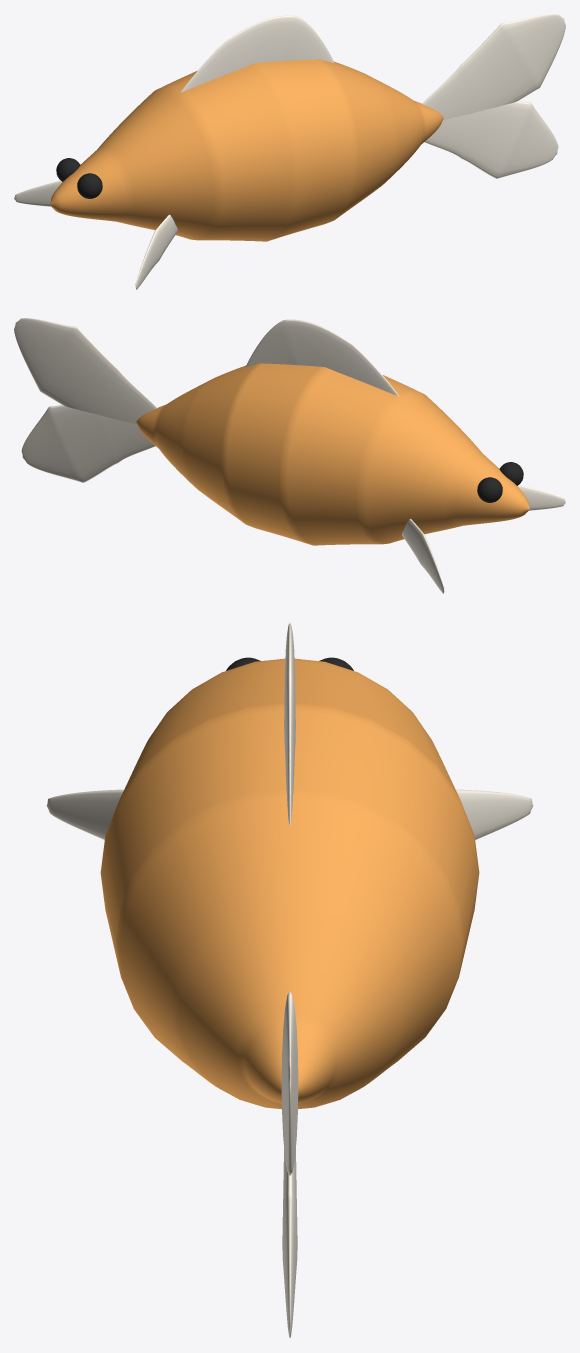
The model's file is goldfish_v4.glb.
3 views of the same model, one above another, from view 1: azimuth 30°, elevation 25°; view 2: azimuth 150°, elevation 25°; view 3: azimuth 270°, elevation 25° (orthographic). The views are drawn at different scales.
Visible parts, largest first — view 1: Body, CaudalFinUp, CaudalFinDown, DorsalFin, PectoralFinL, PectoralFinR, EyeL, EyeR; view 2: Body, CaudalFinUp, CaudalFinDown, DorsalFin, PectoralFinR, PectoralFinL, EyeR, EyeL; view 3: Body, CaudalFinUp, PectoralFinL, PectoralFinR, CaudalFinDown, DorsalFin.
Boxes of the visible parts, x1=… form: Body: x1=50, y1=59, x2=443, y2=241; CaudalFinUp: x1=422, y1=14, x2=565, y2=120; CaudalFinDown: x1=424, y1=101, x2=558, y2=178; DorsalFin: x1=181, y1=15, x2=334, y2=92; PectoralFinL: x1=135, y1=214, x2=177, y2=289; PectoralFinR: x1=14, y1=180, x2=62, y2=206; EyeL: x1=77, y1=173, x2=102, y2=198; EyeR: x1=56, y1=158, x2=80, y2=181; Body: x1=136, y1=363, x2=529, y2=545; CaudalFinUp: x1=14, y1=318, x2=157, y2=424; CaudalFinDown: x1=21, y1=405, x2=155, y2=482; DorsalFin: x1=245, y1=319, x2=398, y2=396; PectoralFinR: x1=402, y1=518, x2=444, y2=593; PectoralFinL: x1=517, y1=484, x2=565, y2=510; EyeR: x1=477, y1=477, x2=502, y2=502; EyeL: x1=499, y1=462, x2=523, y2=485; Body: x1=100, y1=658, x2=479, y2=1109; CaudalFinUp: x1=281, y1=991, x2=298, y2=1175; PectoralFinL: x1=46, y1=789, x2=123, y2=840; PectoralFinR: x1=456, y1=789, x2=533, y2=840; CaudalFinDown: x1=282, y1=1149, x2=297, y2=1337; DorsalFin: x1=284, y1=623, x2=295, y2=825.
Bounding box in the file's own units: 0.7418 × 0.2974 × 0.3033.
